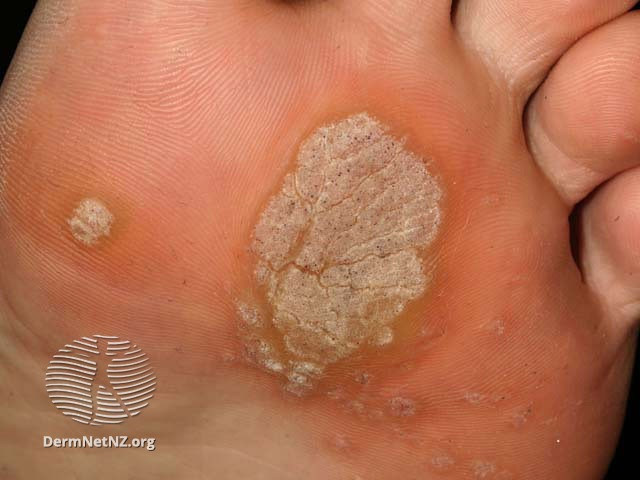Warts: (236, 92, 459, 412), (63, 190, 115, 251)
